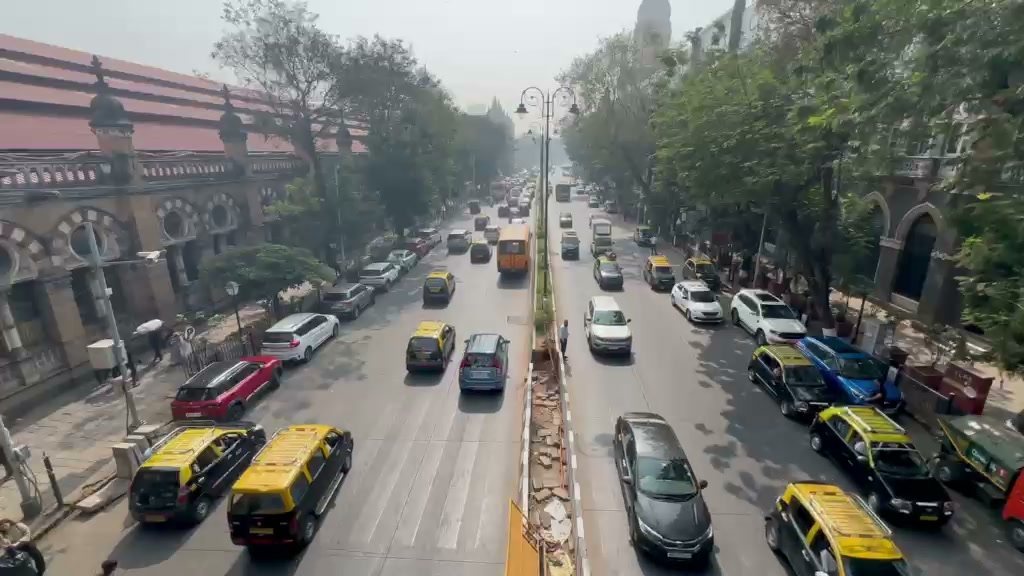bus: (496, 222, 532, 287)
car: (807, 404, 957, 528), (612, 411, 715, 565), (127, 422, 265, 526), (763, 481, 912, 575), (746, 339, 868, 424), (936, 414, 1023, 506), (799, 334, 904, 408), (170, 354, 283, 422), (259, 311, 339, 367), (730, 288, 808, 345), (457, 331, 510, 394), (585, 293, 633, 357), (405, 320, 456, 374), (318, 278, 376, 322), (670, 280, 725, 326), (1000, 467, 1024, 553), (0, 539, 46, 574), (358, 259, 401, 295), (422, 270, 455, 309), (592, 254, 625, 292), (386, 249, 418, 271), (560, 233, 581, 261), (468, 240, 492, 264)
truck: (808, 404, 954, 527), (225, 422, 355, 558), (762, 481, 912, 575)
